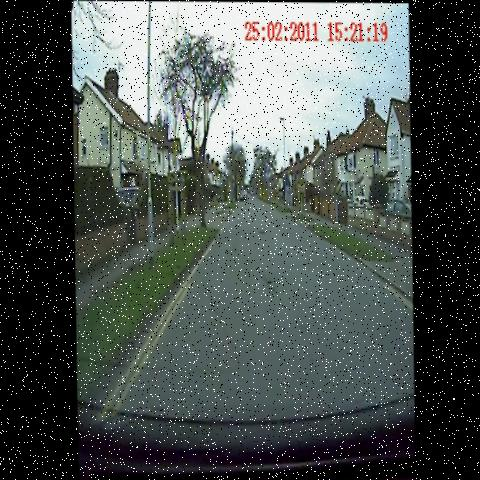pothole: (256, 273, 284, 300), (217, 235, 242, 265), (253, 221, 270, 241), (231, 212, 247, 229), (247, 206, 257, 222)
